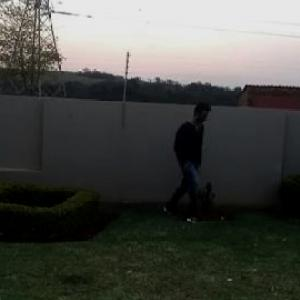follow: (169, 102, 203, 217)
